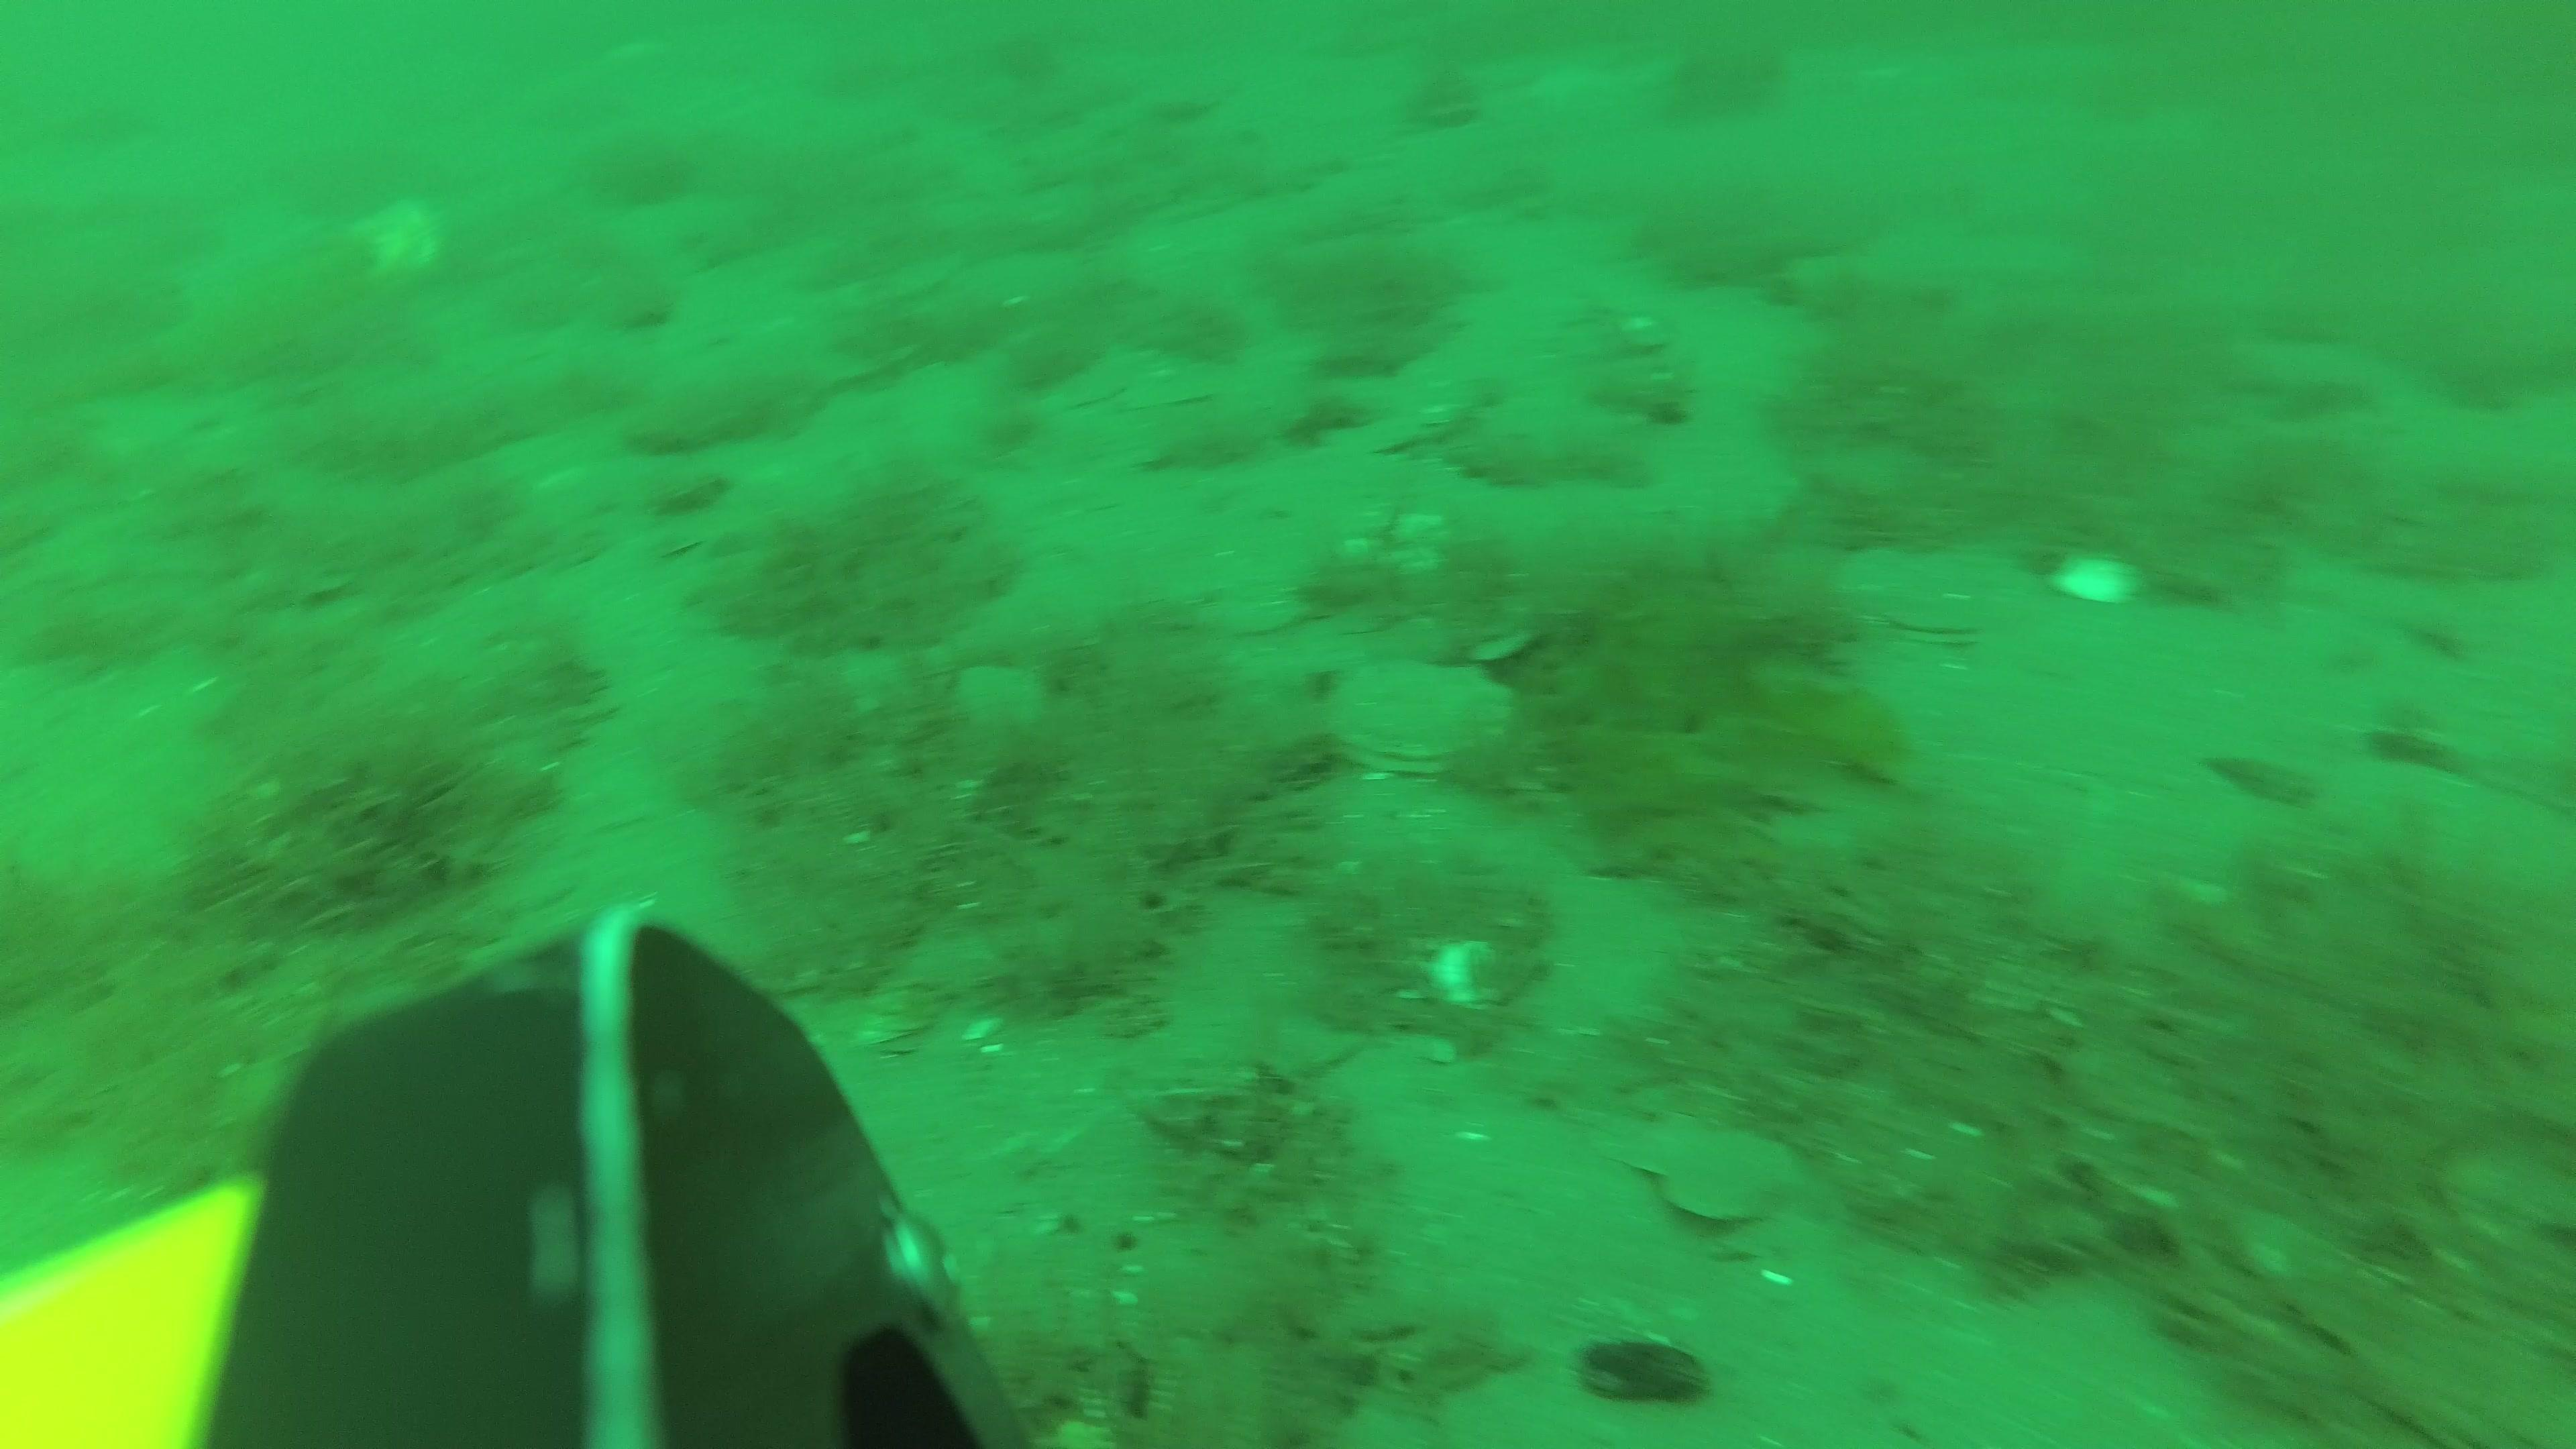scallop: (1320, 656, 1518, 780), (1663, 1129, 1806, 1226), (352, 195, 444, 292), (1886, 594, 1982, 648)
